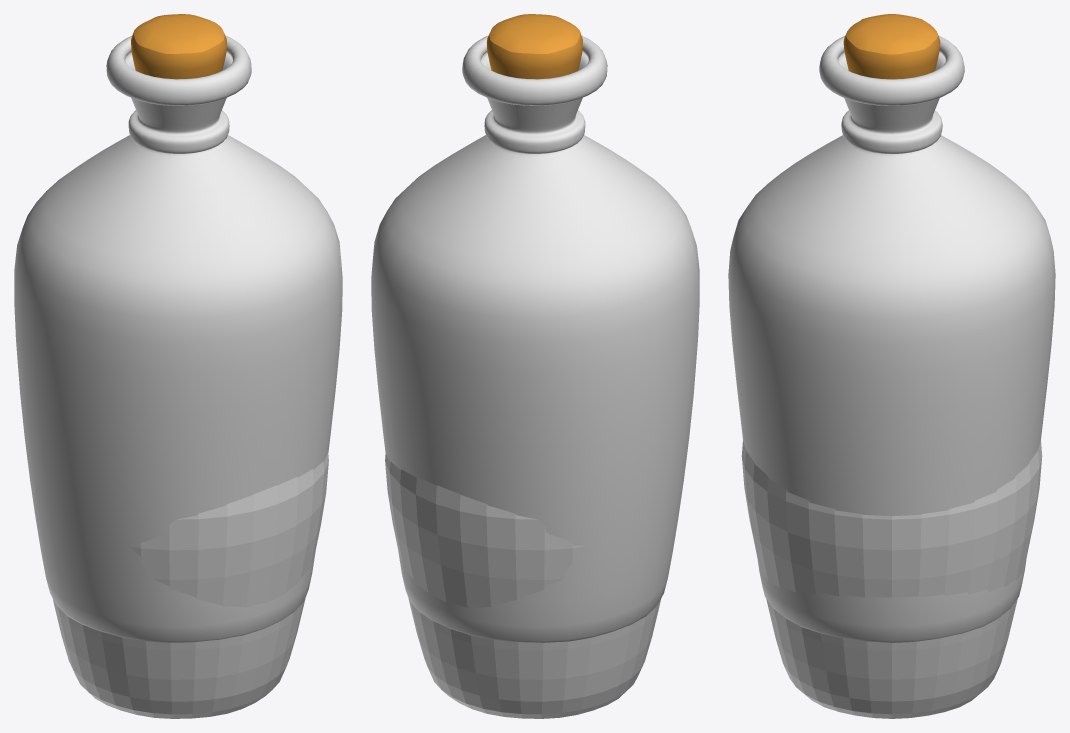
The model's file is MushroomPotionColor.fbx.
The picture shows the model from 3 angles, left to right: view 1: azimuth 30°, elevation 25°; view 2: azimuth 150°, elevation 25°; view 3: azimuth 270°, elevation 25°; orthographic projection.
Visible parts, largest first — view 1: GLASS, Cylinder.045, CORK; view 2: GLASS, Cylinder.045, CORK; view 3: GLASS, Cylinder.045, CORK.
Part boxes in pixels (bbox=[...]): GLASS: bbox=[14, 35, 342, 642]; Cylinder.045: bbox=[53, 453, 328, 718]; CORK: bbox=[131, 14, 227, 79]; GLASS: bbox=[371, 35, 699, 642]; Cylinder.045: bbox=[385, 453, 660, 718]; CORK: bbox=[486, 14, 582, 79]; GLASS: bbox=[728, 36, 1055, 642]; Cylinder.045: bbox=[741, 440, 1042, 718]; CORK: bbox=[843, 14, 940, 79].
Bounding box in the file's own units: 547 × 1202 × 543.
